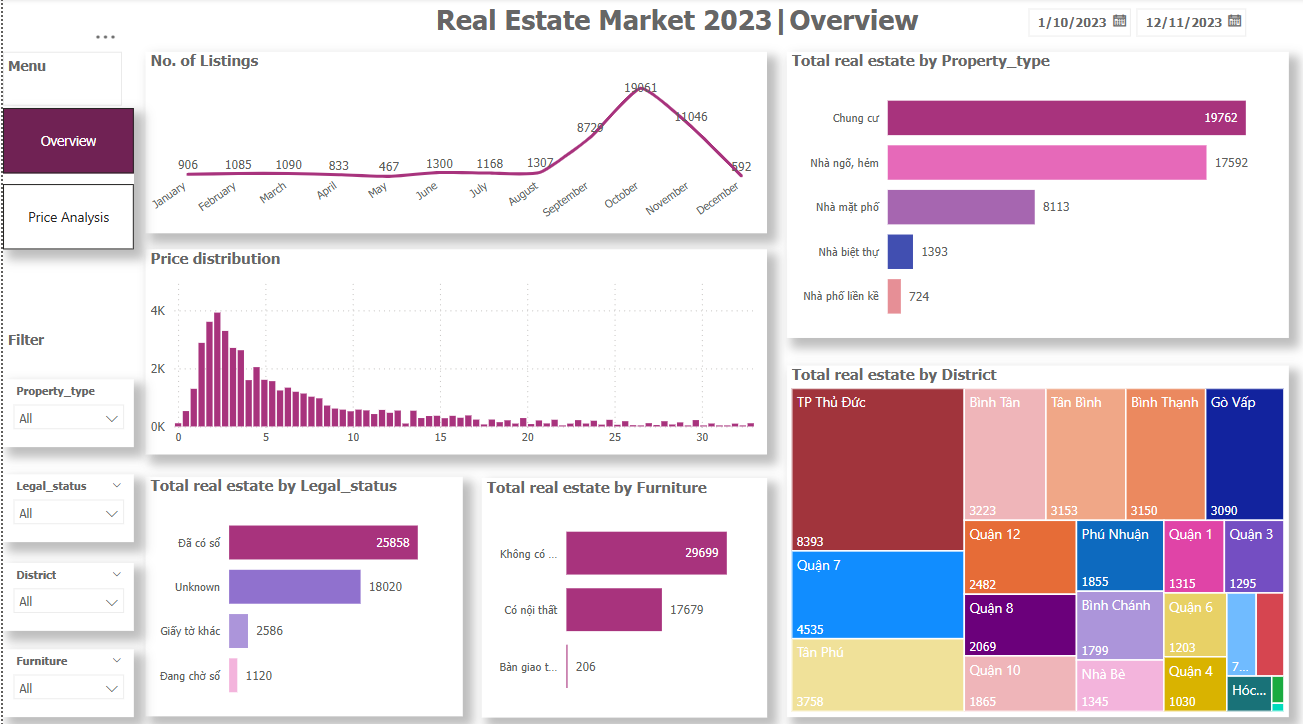

This screenshot's page, from the dashboard's own definition file:
{"tool":"powerbi","page":{"name":"Overview","canvas":[1280,720],"ordinal":0},"visuals":[{"type":"textbox","box":[408.4,0,502.6,52.6],"z":0},{"type":"lineChart","title":"No. of Listings","fields":{"Category":["dataset_non_outliers_Price_Area.Posting_date.Variation.Date Hierarchy.Month"],"Y":["dataset_non_outliers_Price_Area.Total real estate"]},"box":[139.4,52.6,607.7,177.3],"z":1000},{"type":"clusteredBarChart","fields":{"Category":["dataset_non_outliers_Price_Area.Property_type"],"Y":["dataset_non_outliers_Price_Area.Total real estate"]},"box":[766.7,52.6,491.6,280],"z":2000},{"type":"treemap","fields":{"Group":["dataset_non_outliers_Price_Area.District"],"Values":["dataset_non_outliers_Price_Area.Total real estate"]},"box":[766.7,359.5,491.6,343.6],"z":3000},{"type":"barChart","fields":{"Category":["dataset_non_outliers_Price_Area.Legal_status"],"Y":["dataset_non_outliers_Price_Area.Total real estate"]},"box":[139.4,468.3,310.6,234.8],"z":4000},{"type":"barChart","fields":{"Category":["dataset_non_outliers_Price_Area.Furniture"],"Y":["dataset_non_outliers_Price_Area.Total real estate"]},"box":[468.3,469.6,278.8,234.8],"z":5000},{"type":"columnChart","title":"Price distribution","fields":{"Category":["dataset_non_outliers_Price_Area.Price (bins)"],"Y":["dataset_non_outliers_Price_Area.Total real estate"]},"box":[139.4,245.8,607.7,200.5],"z":6000},{"type":"textbox","box":[0,52.6,116.2,52.6],"z":7000},{"type":"textbox","box":[0,320.4,116.2,52.6],"z":8000},{"type":"slicer","fields":{"Values":["dataset_non_outliers_Price_Area.Posting_date"]},"box":[990.5,0,233.6,44],"z":9000},{"type":"slicer","fields":{"Values":["dataset_non_outliers_Price_Area.Property_type"]},"box":[0,373,128.4,66],"z":10000},{"type":"slicer","fields":{"Values":["dataset_non_outliers_Price_Area.Legal_status"]},"box":[0,465.9,128.4,66],"z":11000},{"type":"slicer","fields":{"Values":["dataset_non_outliers_Price_Area.District"]},"box":[0,552.7,128.4,66],"z":12000},{"type":"slicer","fields":{"Values":["dataset_non_outliers_Price_Area.Furniture"]},"box":[0,637.1,128.4,66],"z":13000},{"type":"pageNavigator","box":[0,107.6,128.4,138.2],"z":14000}]}

Visuals, with their boxes on the page's 1280x720 design canvas (x1, y1, x2, y2). These are canvas units, not pixel positions in the 1303x724 screenshot, which may show the page scaled, cropped or inside an application window:
textbox: 408,0,911,53
"No. of Listings" lineChart: 139,53,747,230
clusteredBarChart - dataset_non_outliers_Price_Area.Property_type x dataset_non_outliers_Price_Area.Total real estate: 767,53,1258,333
treemap - dataset_non_outliers_Price_Area.District x dataset_non_outliers_Price_Area.Total real estate: 767,360,1258,703
barChart - dataset_non_outliers_Price_Area.Legal_status x dataset_non_outliers_Price_Area.Total real estate: 139,468,450,703
barChart - dataset_non_outliers_Price_Area.Furniture x dataset_non_outliers_Price_Area.Total real estate: 468,470,747,704
"Price distribution" columnChart: 139,246,747,446
textbox: 0,53,116,105
textbox: 0,320,116,373
slicer - dataset_non_outliers_Price_Area.Posting_date: 990,0,1224,44
slicer - dataset_non_outliers_Price_Area.Property_type: 0,373,128,439
slicer - dataset_non_outliers_Price_Area.Legal_status: 0,466,128,532
slicer - dataset_non_outliers_Price_Area.District: 0,553,128,619
slicer - dataset_non_outliers_Price_Area.Furniture: 0,637,128,703
pageNavigator: 0,108,128,246
